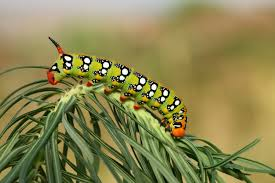Caterpillar: (46, 36, 188, 140)
